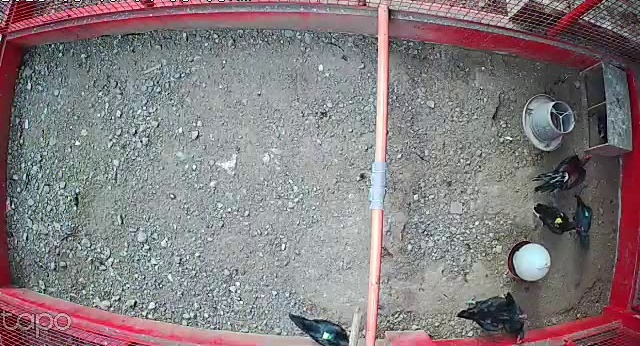Chicken: (448, 291, 529, 331), (493, 286, 532, 345), (288, 312, 354, 346), (532, 200, 580, 232), (570, 192, 595, 247)
Rooster: (530, 149, 595, 196)
Saddle_Color_Yellow: (555, 216, 565, 226)
Saddle_Color_YellowGreen: (322, 332, 333, 339)
